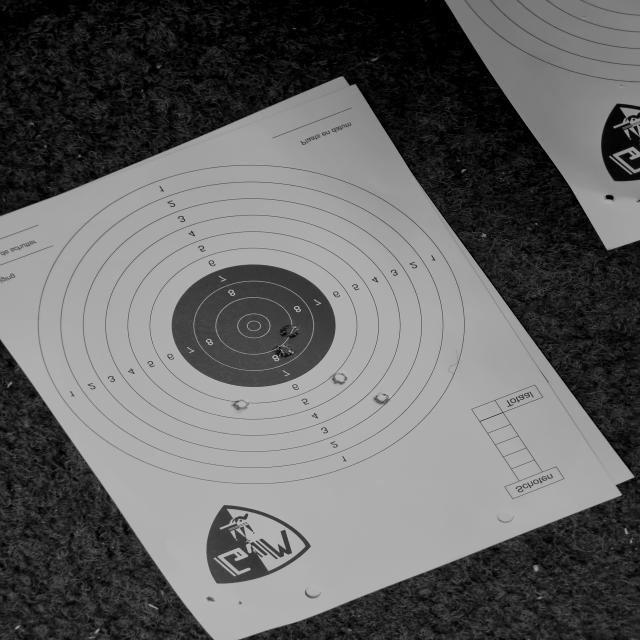3: (374, 393, 390, 405)
5: (332, 372, 347, 386)
6: (231, 400, 249, 410)
9: (274, 345, 294, 358), (280, 325, 300, 338)
Target: (39, 173, 494, 477)
black_contour: (172, 266, 336, 388)
